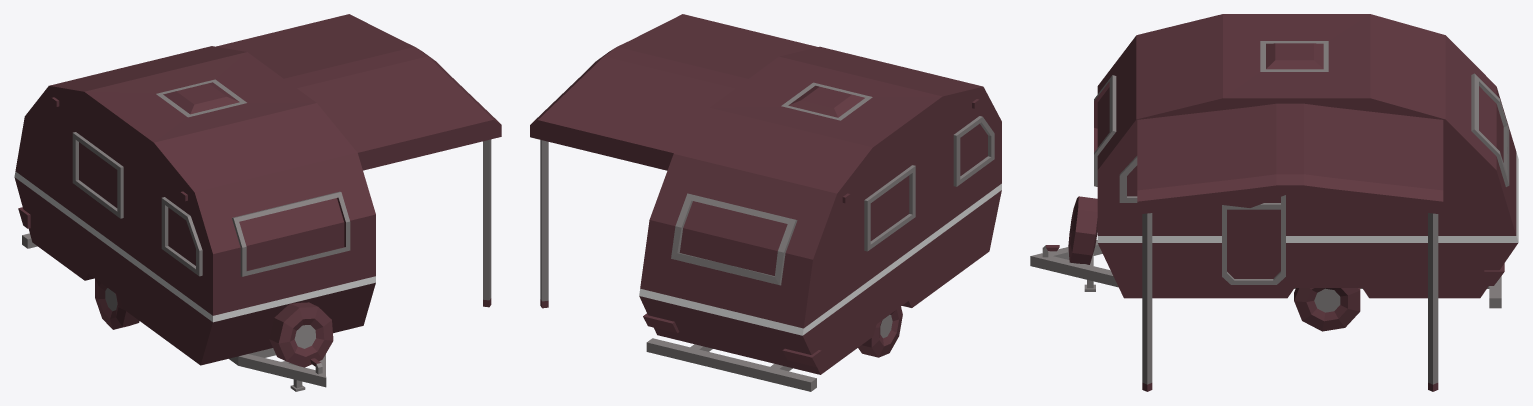
File: car-caravan-small-standing-b.fbx
3 views of the same model, side by side, from view 1: azimuth 30°, elevation 25°; view 2: azimuth 150°, elevation 25°; view 3: azimuth 270°, elevation 25° (orthographic). The views are drawn at different scales.
Parts seen in each view (by area): view 1: car-caravan-small-standing-b; view 2: car-caravan-small-standing-b; view 3: car-caravan-small-standing-b.
Boxes of the visible parts, x1,y1,x2,y2 form: car-caravan-small-standing-b: (14,14,501,391); car-caravan-small-standing-b: (530,14,1001,391); car-caravan-small-standing-b: (1030,14,1518,391).
Size of the model in its own units: 4 by 2.8 by 5.14.
